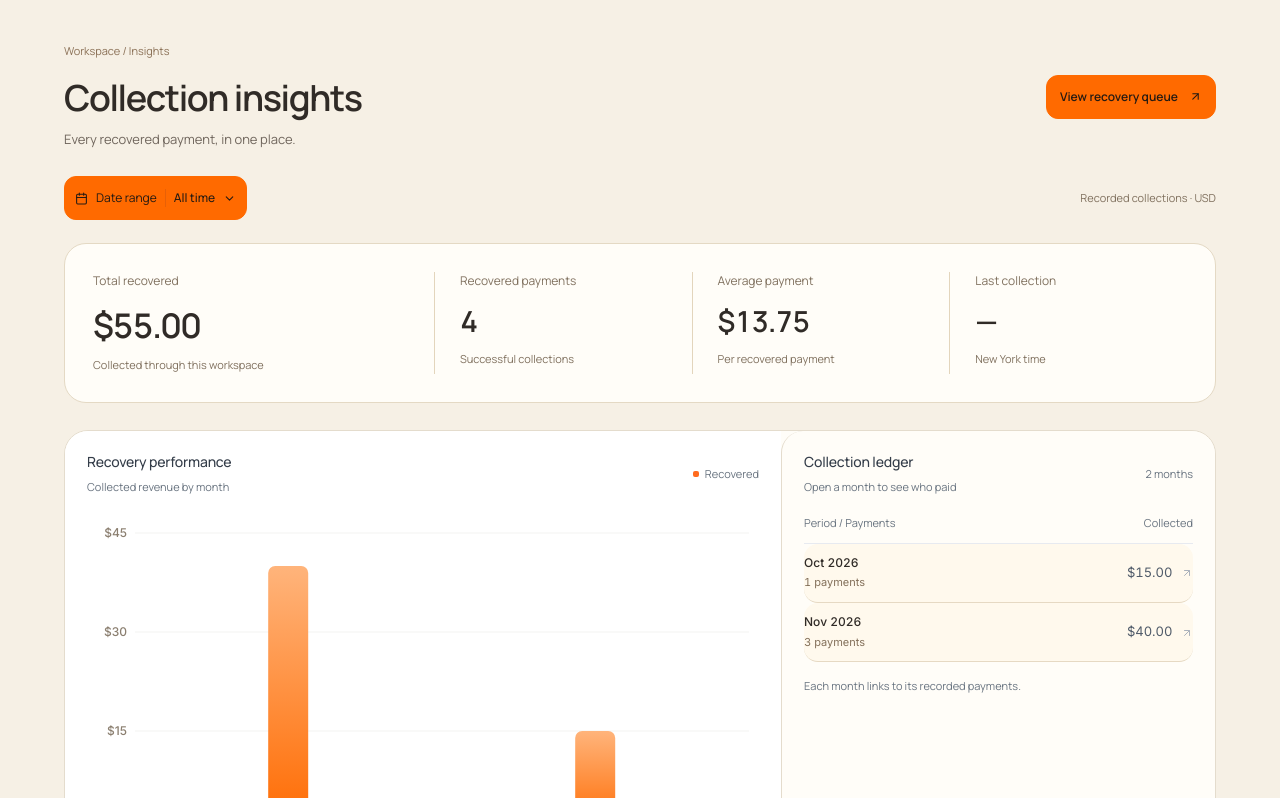
loads every page without dropping existing rows or duplicating payments
What coordinates should you click on to do the following:
click the button "Nov 2026 3 payments $40.00"
I would click on:
 (833, 621)
Its box is top-left (804, 603), bottom-right (1193, 662).
(page scrolled)
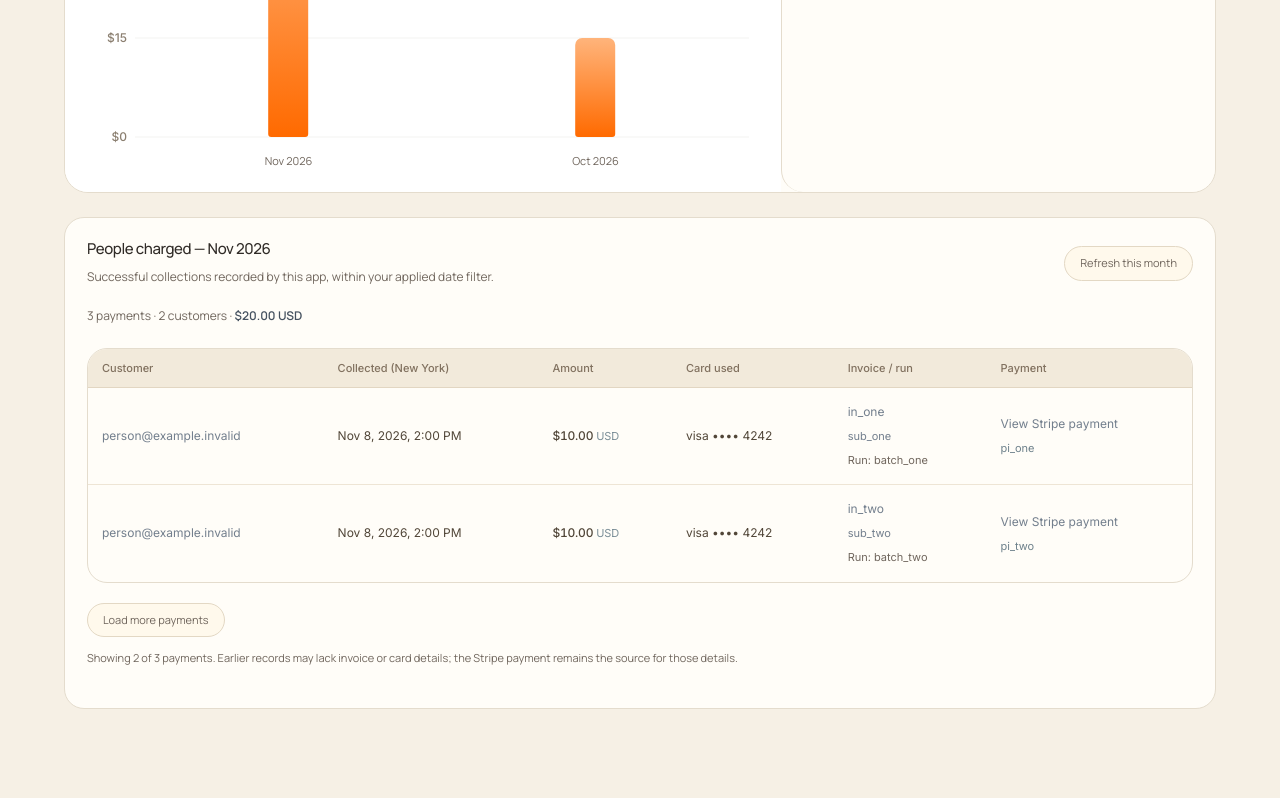
What coordinates should you click on to do the following:
click the button "Load more payments"
I would click on:
 (156, 620)
Its box is top-left (87, 603), bottom-right (225, 637).
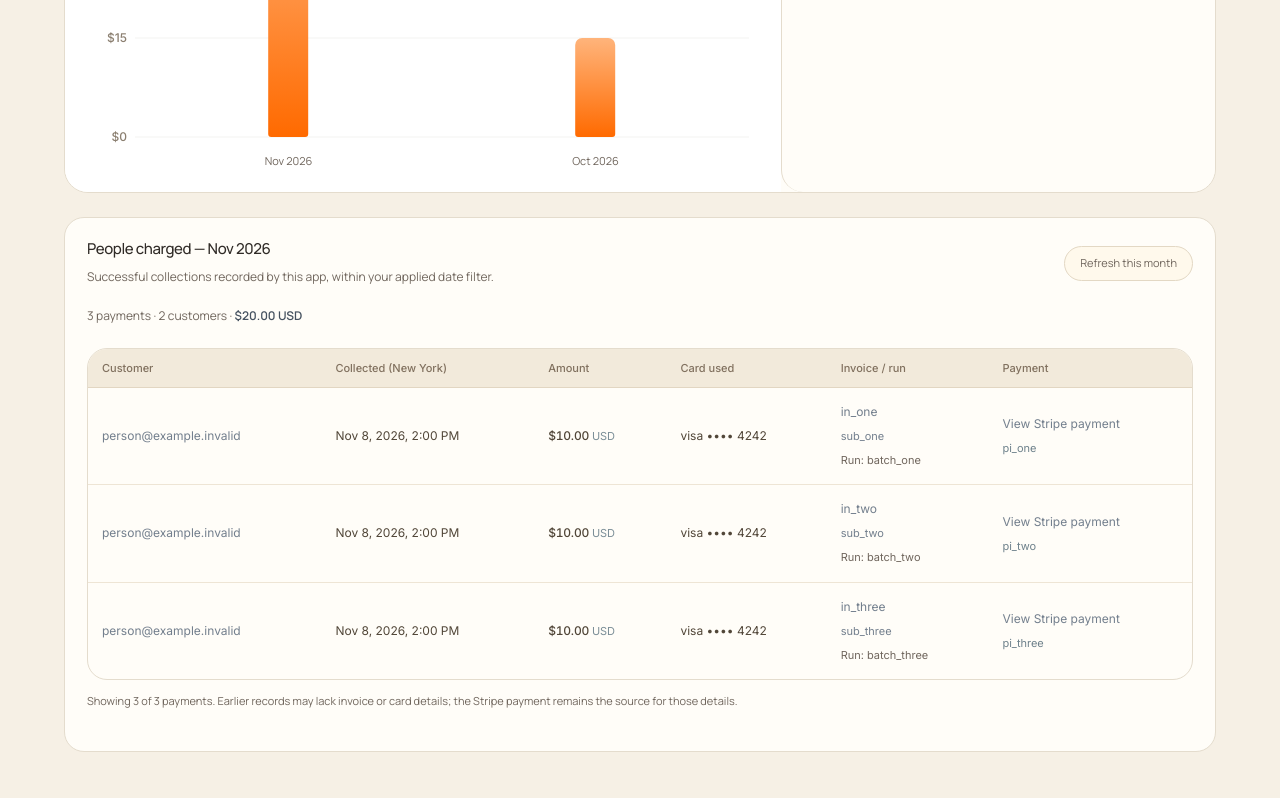
Expected: the text "Showing 3 of 3 payments" is shown, top-left (87, 693), bottom-right (738, 708)
